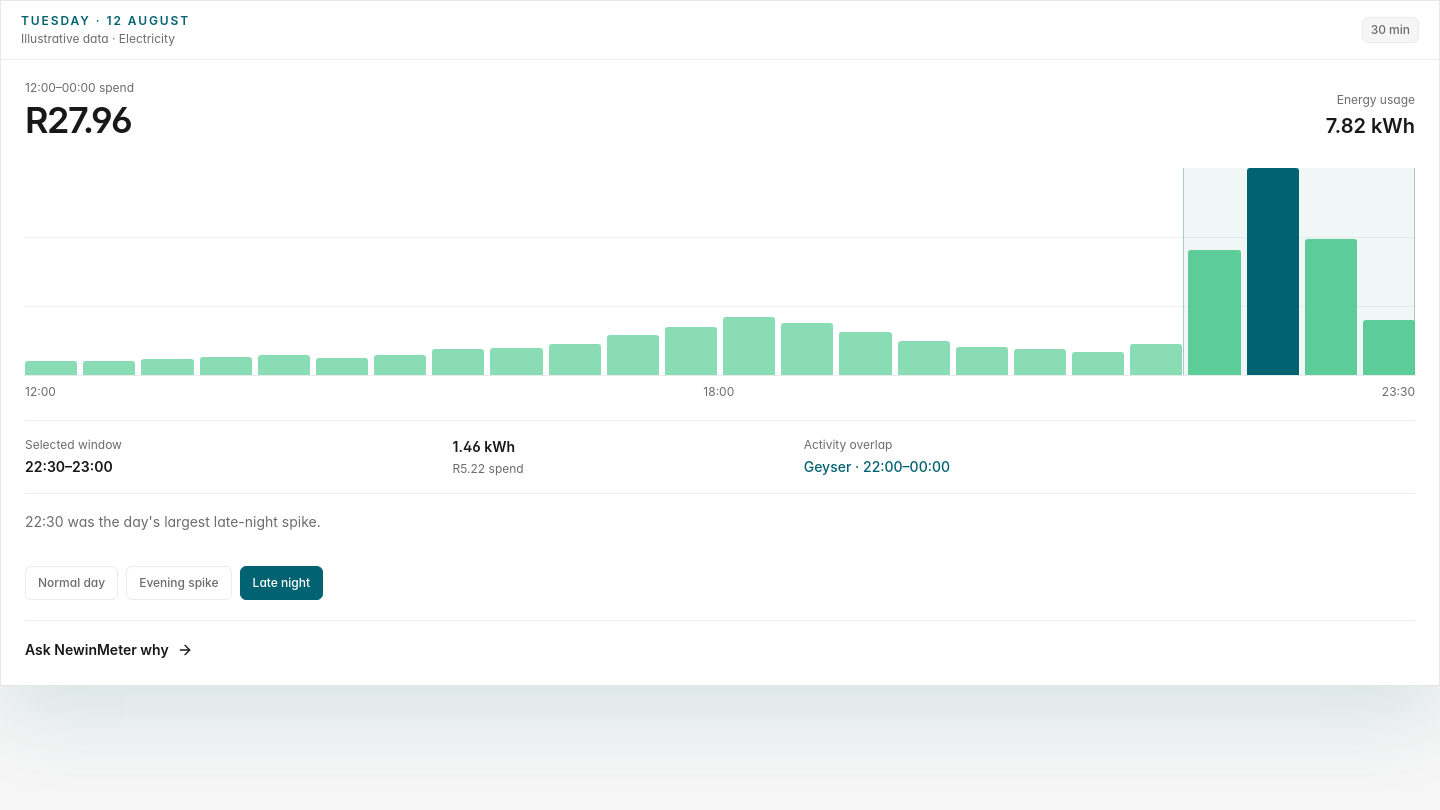
public NewinMeter demos › reveals the assistant answer immediately when reduced motion is preferred
Click the button "Ask NewinMeter why".
click(109, 650)  # box left=25, top=640, right=193, bottom=660
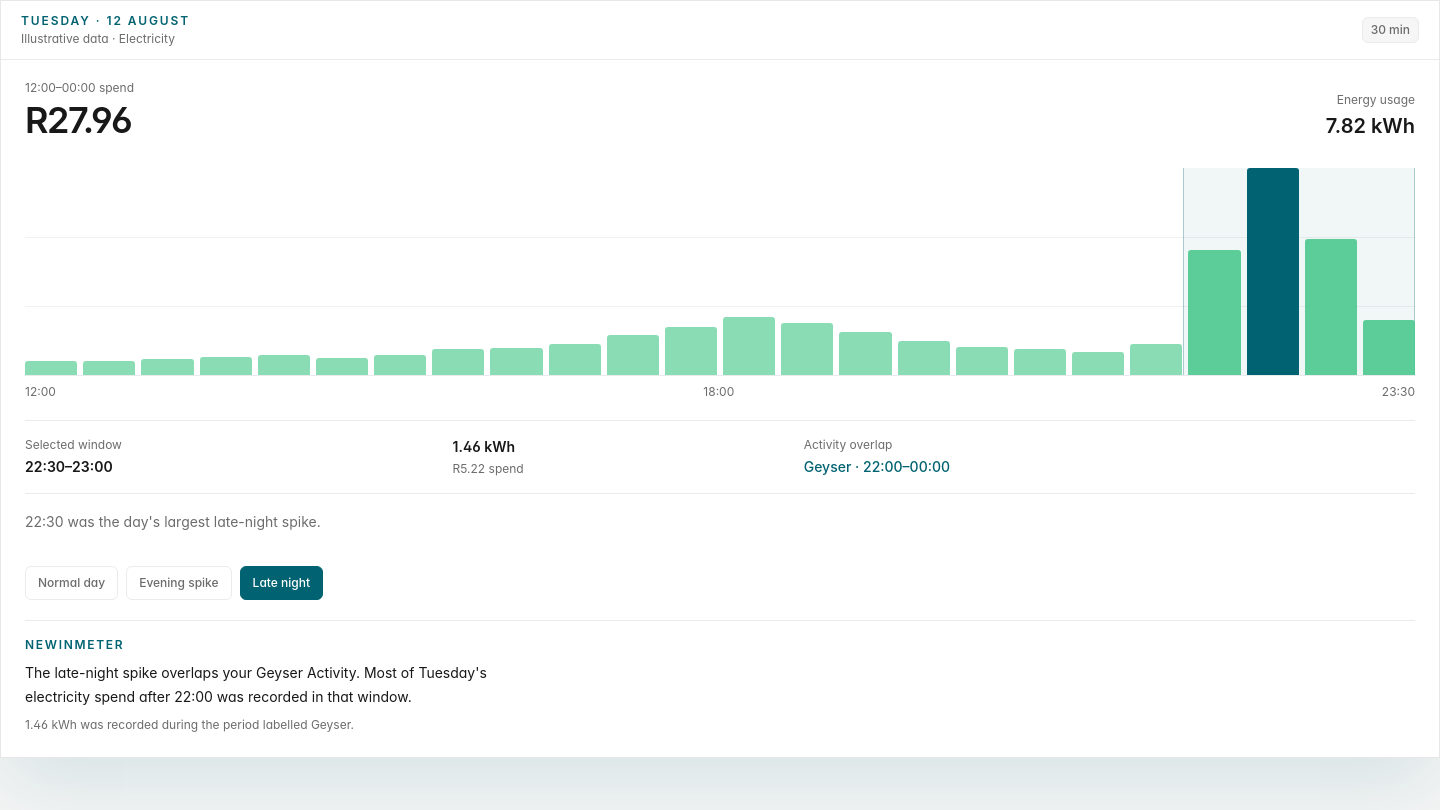
Result: the text "late-night spike overlaps your Geyser Activity" is shown at left=25, top=664, right=487, bottom=705
